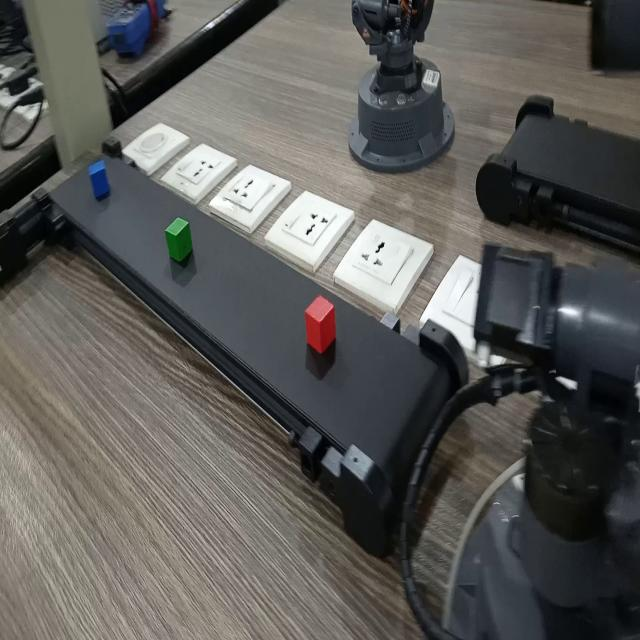cube: (298, 283, 343, 355), (161, 211, 198, 266), (82, 144, 113, 201)
